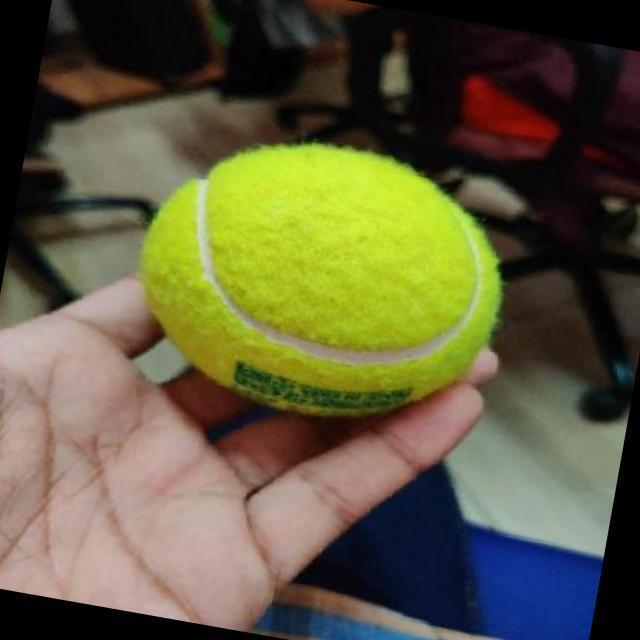-: (130, 113, 519, 444)
